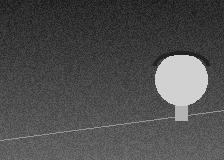no_helmet: (155, 51, 207, 110)
